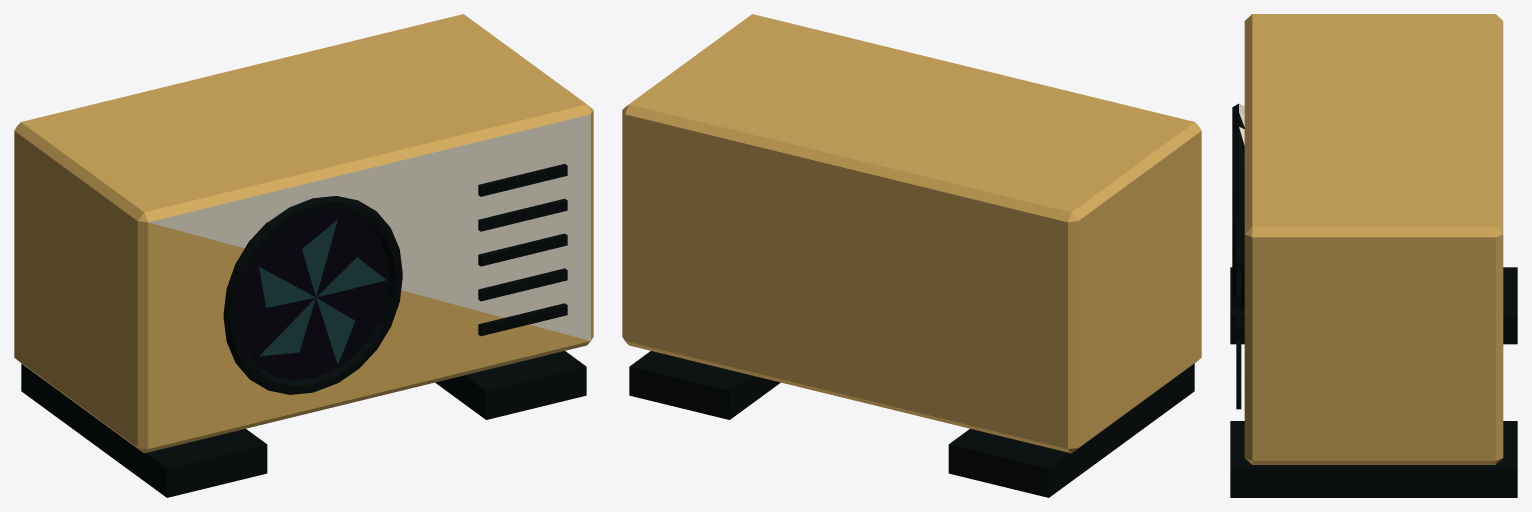
File: hvac_unit.fbx
The picture shows the model from 3 angles, left to right: view 1: azimuth 30°, elevation 25°; view 2: azimuth 150°, elevation 25°; view 3: azimuth 270°, elevation 25°; orthographic projection.
Visible parts, largest first — view 1: Part_-1, Part_2, Part_5, Part_0, Part_3; view 2: Part_-1; view 3: Part_-1, Part_2.
Boxes of the visible parts, x1=… form: Part_-1: x1=14, y1=14, x2=593, y2=497; Part_2: x1=145, y1=165, x2=590, y2=453; Part_5: x1=149, y1=114, x2=590, y2=340; Part_0: x1=137, y1=223, x2=147, y2=453; Part_3: x1=137, y1=213, x2=244, y2=441; Part_-1: x1=622, y1=14, x2=1201, y2=497; Part_-1: x1=1230, y1=14, x2=1517, y2=497; Part_2: x1=1232, y1=146, x2=1244, y2=396.
Bounding box in the file's own units: 3.11 × 1.83 × 1.72.
